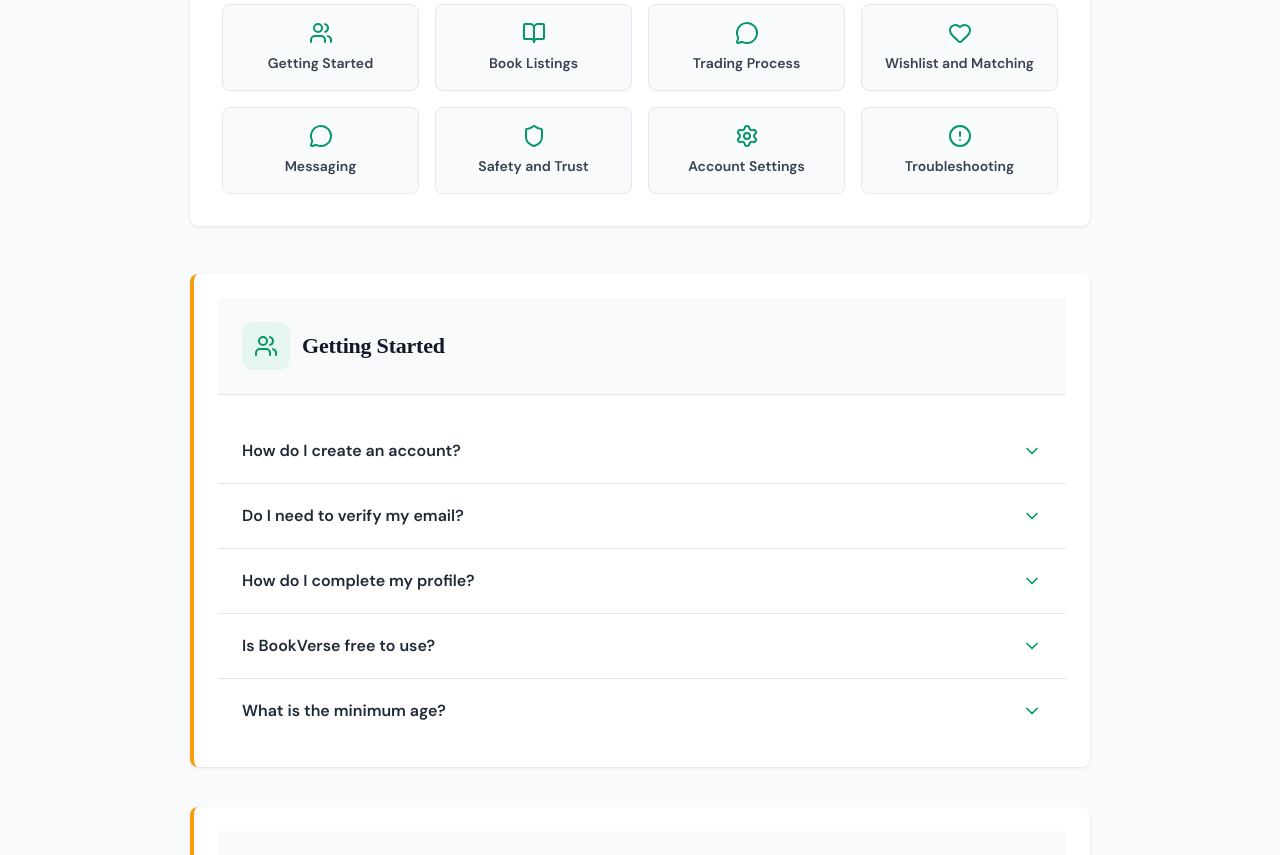
Test: FAQPage › toggles FAQ item when clicked
(page scrolled)
Check: the text "How do I create an account?" is shown, box [242, 439, 461, 463]
Check: the text "Click \"Get Started\" or \"Sign Up\"" is not shown
# Click to expand
Click the button "How do I create an account?" at (351,450), box [218, 419, 1066, 483]
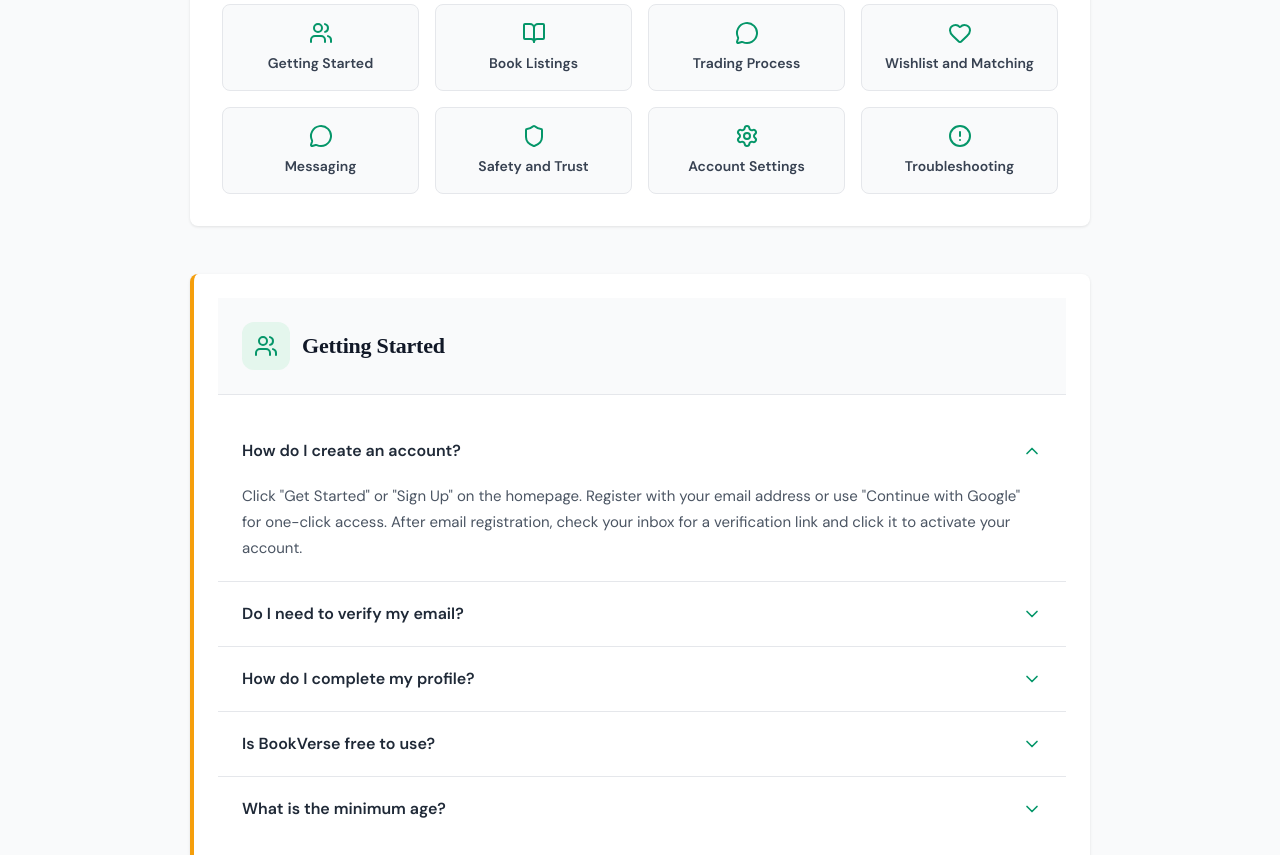
Check: the text "Click \"Get Started\" or \"Sign Up\"" is shown, box [242, 486, 1020, 558]
# Click again to collapse
Click the button "How do I create an account?" at (351,450), box [218, 419, 1066, 483]
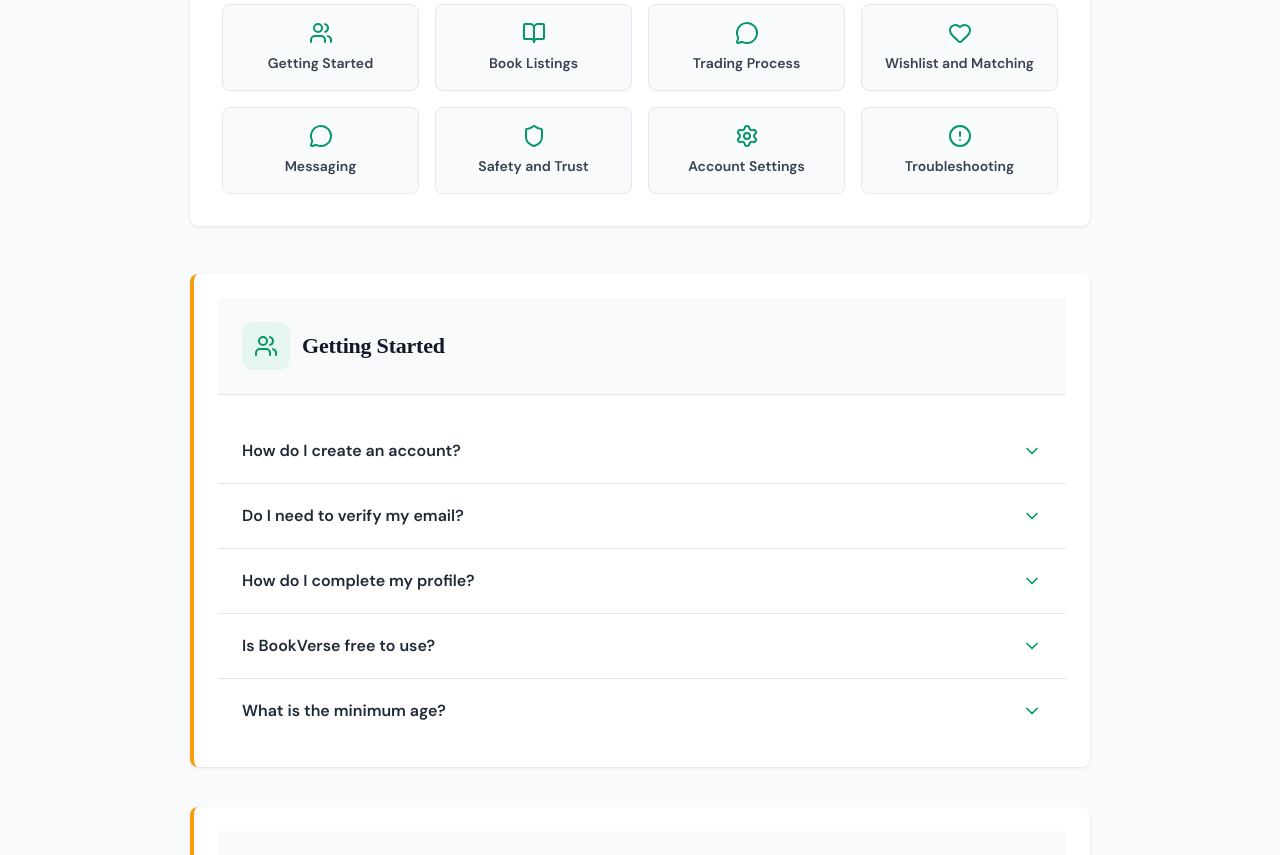
Check: the text "Click \"Get Started\" or \"Sign Up\"" is gone
